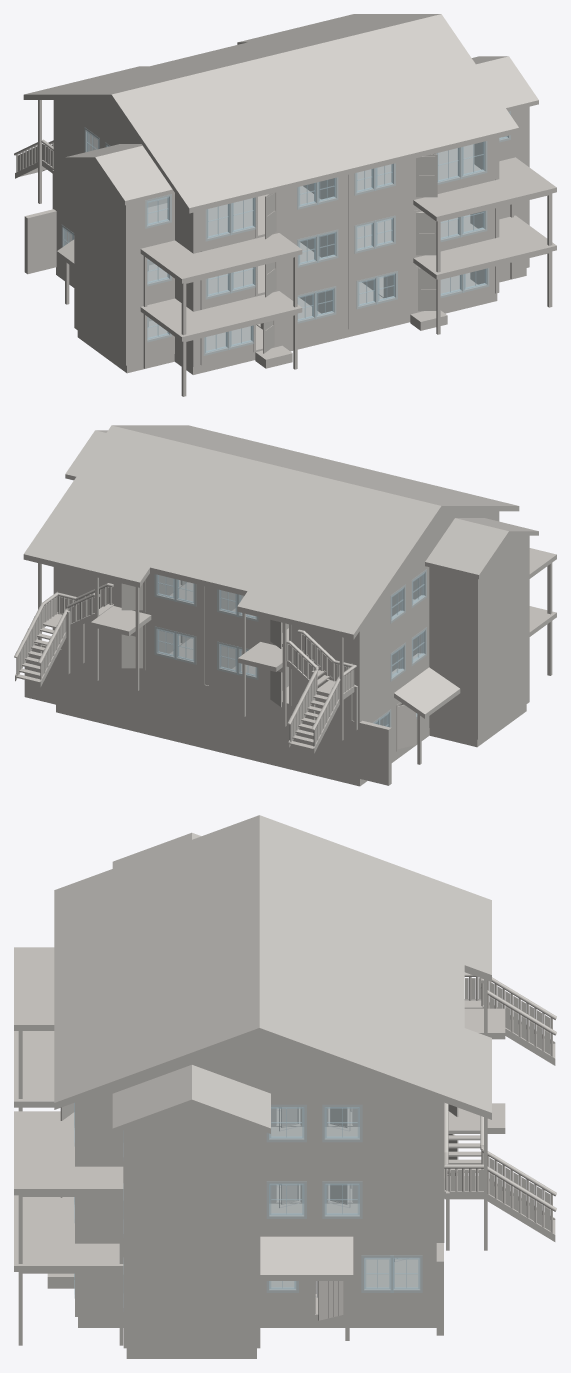
3 renders of one model, top to bottom at view 1: azimuth 30°, elevation 25°; view 2: azimuth 150°, elevation 25°; view 3: azimuth 270°, elevation 25°, orthographic. The views are drawn at different scales.
Parts seen in each view (by area): view 1: 2u9gYONfr8zPTBmskJetY8, 2bHsXOtrP50Bfel_b6rZaG, 0NrYinMXn7h9nEZvYPh1ba, 3hjhkoF195BhMKg4qh0KVI, 3lz2jlvGT7WAYbUOuWaG8D, 0EzPHAlEn9OR4tQ6XfuTTl, 1AzT9qobHFuvSuz$CWjGxC, 1TzGogCCX8ggtaTHTy5cDF, 1xELskQF15pAF2KSDrvaGO, 3TW_IUdYj4ABMkmQu0uLsA, 3XTrQ9G412Uem805lbq8eg, 3hlqGeZbL4rx2uIE4uyWtY (+55 smaller); view 2: 0EzPHAlEn9OR4tQ6XfuTTl, 3XTrQ9G412Uem805lbq8eg, 0oMH6i3MX4lPzFQxGnO3xw, 1Rt5OjTjL2$AfuetFZcWc8, 1QMYrSdHfB$Pm5jQBpaBR8, 2rKKqX1QnFkOTeJeD0igI_, 1QmUIxD31BOhMeCiPN8mDa, 2u9gYONfr8zPTBmskJetY8, 00d4iiUt17Muy4K35k$QmI, 2bHsXOtrP50Bfel_b6rZaG, 2Sq8ZoHUv2VQ$av7o1WZkp, 3X7mN8pcL1YgwhYG_kRt$y (+37 smaller); view 3: 3XTrQ9G412Uem805lbq8eg, 0EzPHAlEn9OR4tQ6XfuTTl, 2bHsXOtrP50Bfel_b6rZaG, 2u9gYONfr8zPTBmskJetY8, 0U8GVzFCX83uyzrnLCu5Bp, 2diovLQw51VA2MKgpPMPC5, 20b$dknOTDF9uZcNQuUFnj, 323bnnP0v2sQf$beTg3xjB, 2kLNkKfan7OhZEqWpe$_tm, 1TzGogCCX8ggtaTHTy5cDF, 1iOXBSm958gfuCo_YSxacu, 1QmUIxD31BOhMeCiPN8mDa (+28 smaller).
Part boxes in pixels (x1,y1,x2,y2): 2u9gYONfr8zPTBmskJetY8: [111, 54, 354, 213]; 2bHsXOtrP50Bfel_b6rZaG: [277, 14, 519, 173]; 0NrYinMXn7h9nEZvYPh1ba: [140, 233, 302, 283]; 3hjhkoF195BhMKg4qh0KVI: [348, 180, 491, 273]; 3lz2jlvGT7WAYbUOuWaG8D: [140, 291, 302, 341]; 0EzPHAlEn9OR4tQ6XfuTTl: [23, 54, 275, 99]; 1AzT9qobHFuvSuz$CWjGxC: [348, 238, 491, 329]; 1TzGogCCX8ggtaTHTy5cDF: [413, 157, 556, 221]; 1xELskQF15pAF2KSDrvaGO: [413, 215, 556, 279]; 3TW_IUdYj4ABMkmQu0uLsA: [200, 216, 344, 309]; 3XTrQ9G412Uem805lbq8eg: [199, 14, 440, 54]; 3hlqGeZbL4rx2uIE4uyWtY: [200, 274, 344, 365]; 0EzPHAlEn9OR4tQ6XfuTTl: [199, 465, 441, 639]; 3XTrQ9G412Uem805lbq8eg: [23, 425, 275, 587]; 0oMH6i3MX4lPzFQxGnO3xw: [206, 685, 391, 785]; 1Rt5OjTjL2$AfuetFZcWc8: [24, 643, 206, 741]; 1QMYrSdHfB$Pm5jQBpaBR8: [286, 629, 356, 753]; 2rKKqX1QnFkOTeJeD0igI_: [61, 592, 204, 684]; 1QmUIxD31BOhMeCiPN8mDa: [14, 583, 113, 687]; 2u9gYONfr8zPTBmskJetY8: [277, 465, 519, 511]; 00d4iiUt17Muy4K35k$QmI: [359, 614, 429, 722]; 2bHsXOtrP50Bfel_b6rZaG: [112, 425, 352, 465]; 2Sq8ZoHUv2VQ$av7o1WZkp: [208, 628, 352, 720]; 3X7mN8pcL1YgwhYG_kRt$y: [362, 557, 429, 662]; 3XTrQ9G412Uem805lbq8eg: [259, 921, 491, 1119]; 0EzPHAlEn9OR4tQ6XfuTTl: [259, 815, 491, 996]; 2bHsXOtrP50Bfel_b6rZaG: [54, 921, 259, 1109]; 2u9gYONfr8zPTBmskJetY8: [54, 815, 259, 996]; 0U8GVzFCX83uyzrnLCu5Bp: [260, 1166, 444, 1242]; 2diovLQw51VA2MKgpPMPC5: [260, 1090, 436, 1165]; 20b$dknOTDF9uZcNQuUFnj: [123, 1197, 260, 1274]; 323bnnP0v2sQf$beTg3xjB: [123, 1274, 260, 1348]; 2kLNkKfan7OhZEqWpe$_tm: [123, 1122, 260, 1197]; 1TzGogCCX8ggtaTHTy5cDF: [14, 1111, 123, 1195]; 1iOXBSm958gfuCo_YSxacu: [260, 1243, 436, 1316]; 1QmUIxD31BOhMeCiPN8mDa: [444, 1102, 556, 1241].
Size of what is drawn, in the model's own units: 20.74 by 11.18 by 17.83.
